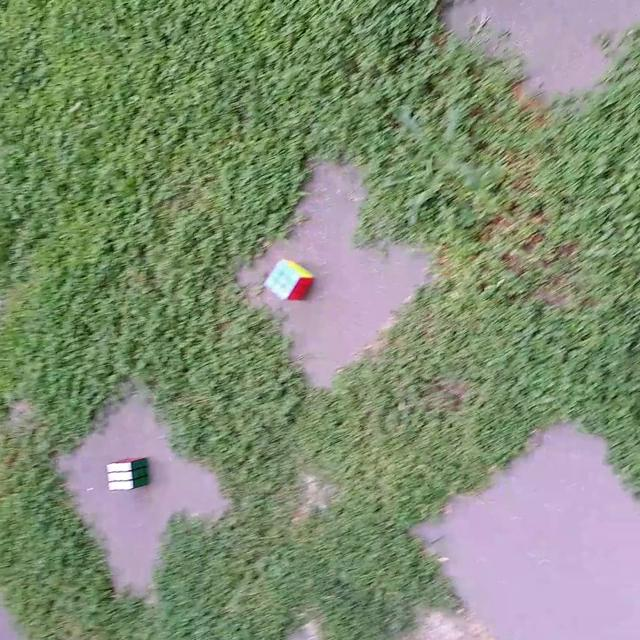rubix_cube: (260, 257, 317, 305), (103, 456, 153, 494)
